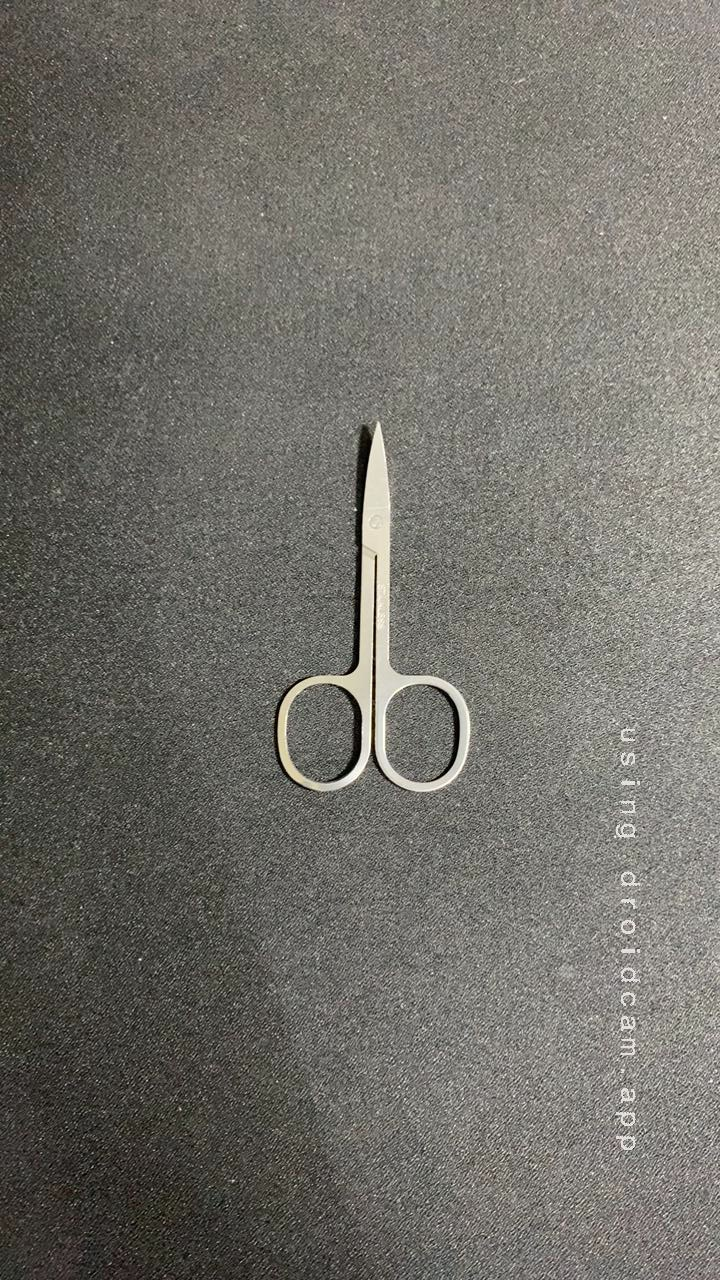scissor: (241, 413, 490, 807)
